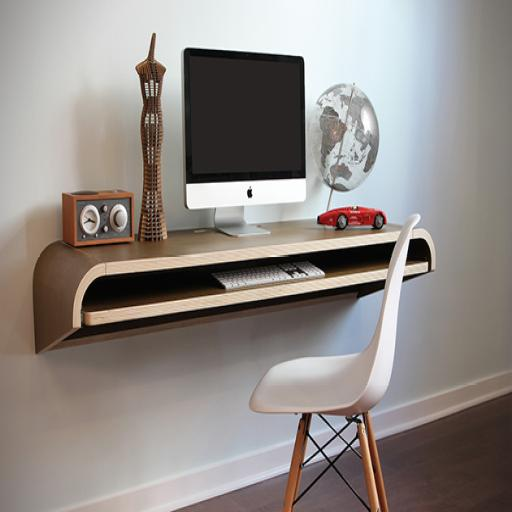chair: (249, 213, 421, 511)
desk: (32, 218, 435, 354)
wall: (0, 0, 512, 512)
